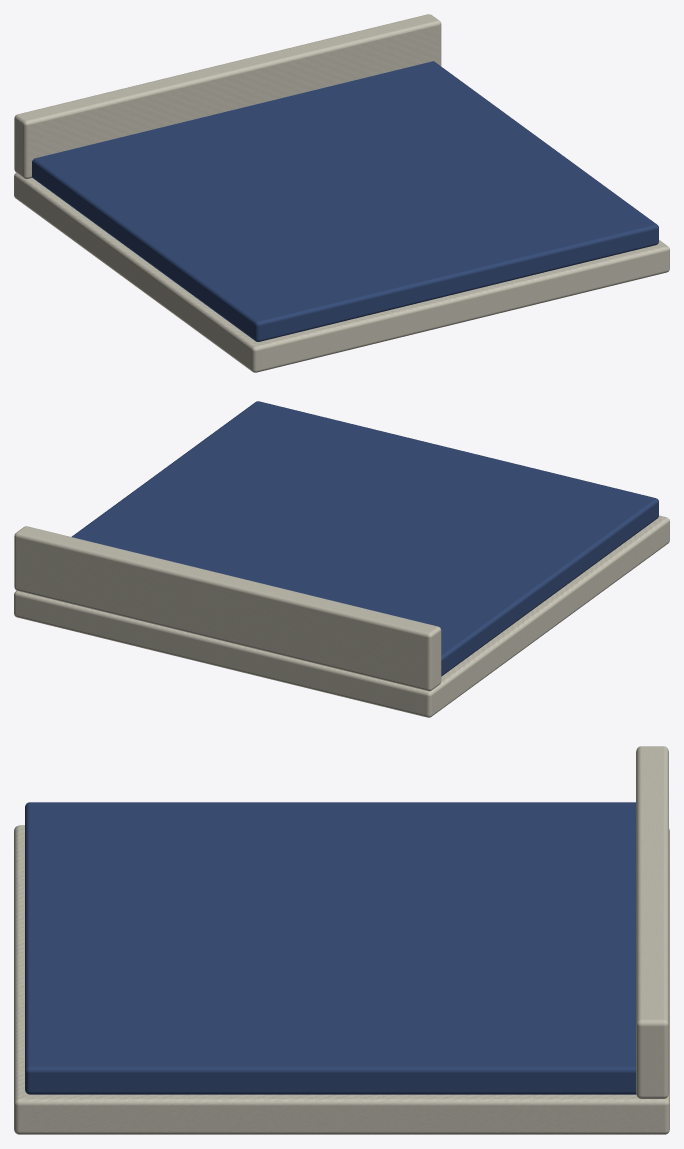
The model's file is arcane-academy-and-spell-trials-roof-end-6299b14d__28277.glb.
3 renders of one model, top to bottom at view 1: azimuth 30°, elevation 25°; view 2: azimuth 150°, elevation 25°; view 3: azimuth 270°, elevation 25°, orthographic. The views are drawn at different scales.
Parts seen in each view (by area): view 1: roof-end; view 2: roof-end; view 3: roof-end.
Part boxes in pixels (box(x1,y1,x2,y2)): roof-end: box(14, 14, 669, 372); roof-end: box(14, 401, 669, 717); roof-end: box(14, 746, 669, 1134).
Size of the model in its own units: 3 by 0.5801 by 3.
Materials: 2 (1 with a texture image).
